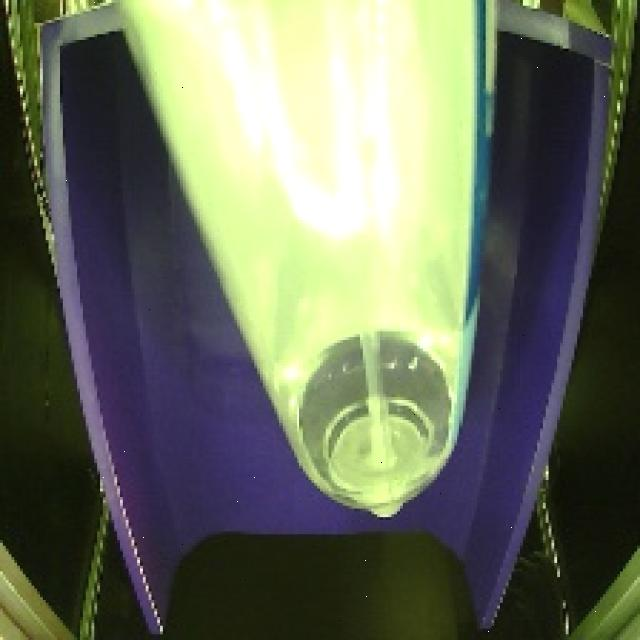plastic: (72, 0, 512, 535)
